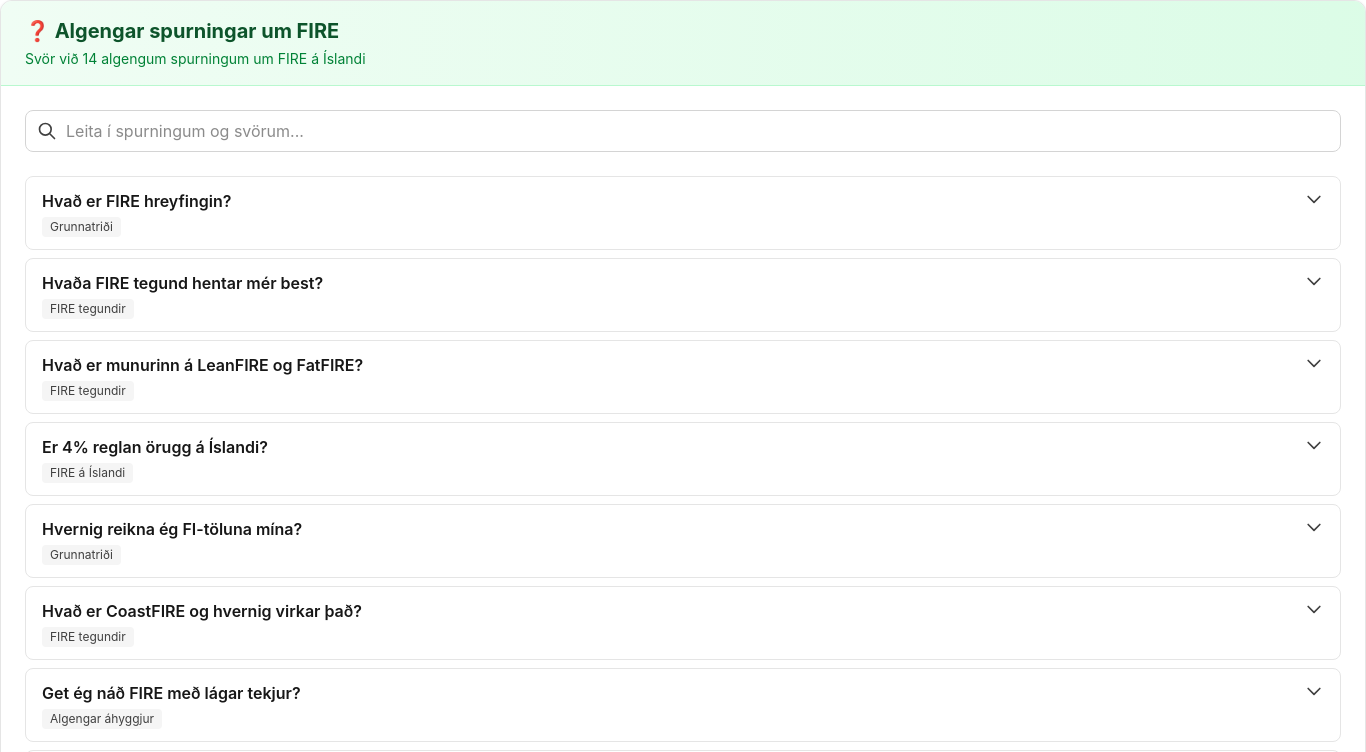
Test: FAQSection › searches in both questions and answers
The width and height of the screenshot is (1366, 752).
Search for word that appears in an answer
In the field with placeholder "Leita í spurningum og svörum...": (683, 131) [25, 110, 1341, 152], type "verðbólga"
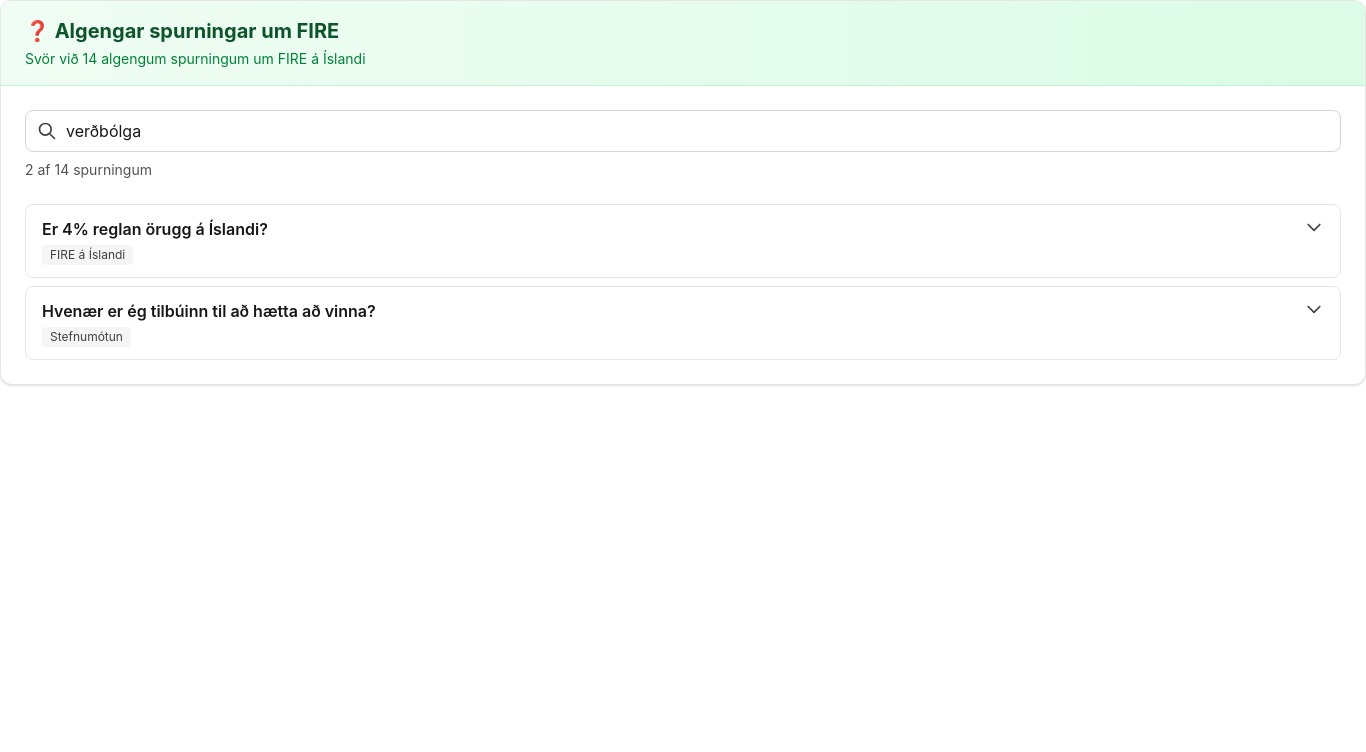
Now the text "2 af 14 spurningum" is shown, box [25, 161, 152, 178]
